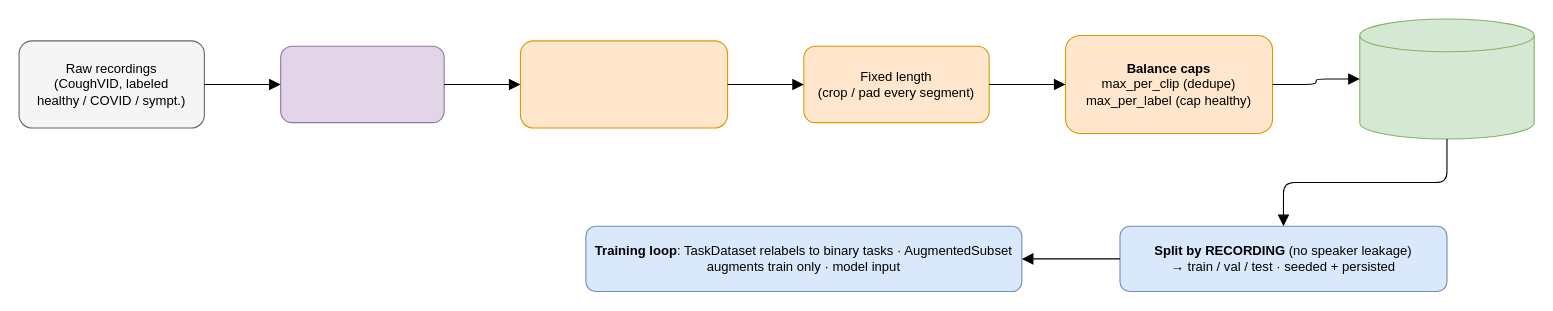
Image size: 1553x311. Some labels were removed from this diagram. Each missing label, with the centre of its shape:
Cough segmentation energy-based cough detector 1 clip → many cough events: pixel 623 84
Decode + resample 16 kHz mono: pixel 362 84
final_processed dataset.npz (waveforms + labels + source paths): pixel 1446 78
